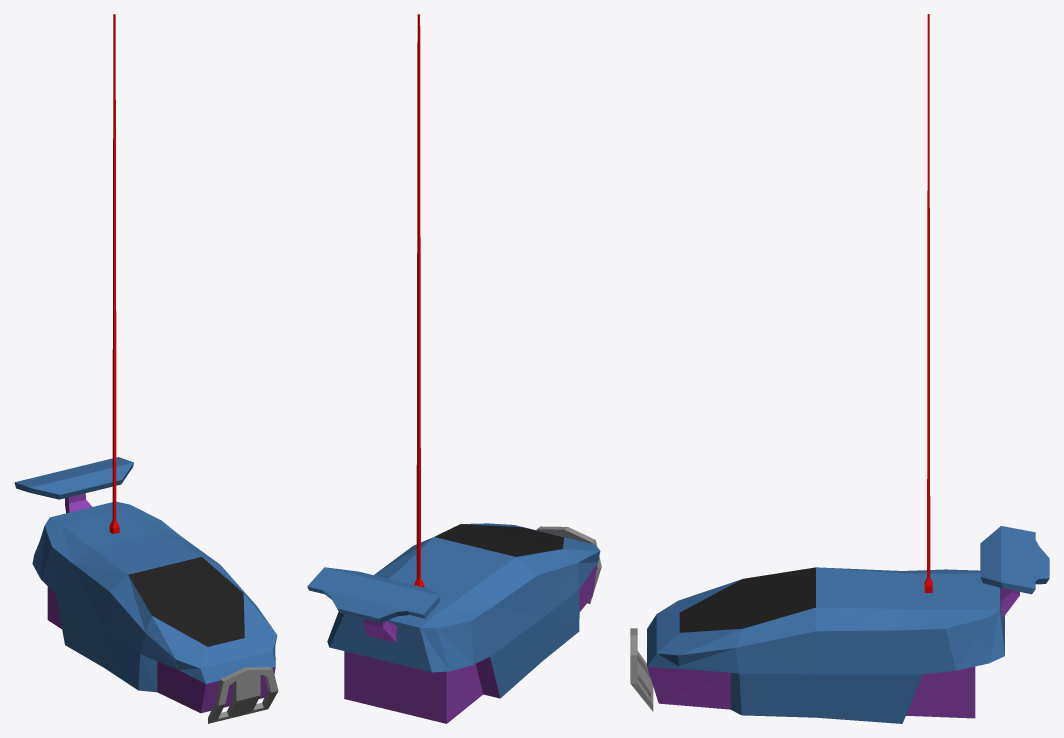
Rendered from Car_2.fbx.
3 views of the same model, side by side, from view 1: azimuth 30°, elevation 25°; view 2: azimuth 150°, elevation 25°; view 3: azimuth 270°, elevation 25° (orthographic). The views are drawn at different scales.
Parts seen in each view (by area): view 1: Car_2_body, Car_2_spoiler, Car_2_bumper, Antene; view 2: Car_2_body, Car_2_spoiler, Antene, Car_2_bumper; view 3: Car_2_body, Car_2_spoiler, Antene, Car_2_bumper.
Boxes of the visible parts, left/top/right/bottom form: Car_2_body: left=32, top=501, right=277, bottom=713; Car_2_spoiler: left=14, top=457, right=133, bottom=513; Car_2_bumper: left=208, top=667, right=278, bottom=723; Antene: left=109, top=14, right=119, bottom=534; Car_2_body: left=327, top=523, right=600, bottom=723; Car_2_spoiler: left=307, top=567, right=440, bottom=642; Antene: left=414, top=14, right=424, bottom=587; Car_2_bumper: left=536, top=526, right=601, bottom=603; Car_2_body: left=647, top=567, right=1004, bottom=723; Car_2_spoiler: left=980, top=526, right=1049, bottom=618; Antene: left=924, top=14, right=932, bottom=592; Car_2_bumper: left=630, top=628, right=653, bottom=711.
Size of the model in its own units: 14.22 by 67.81 by 37.82.
